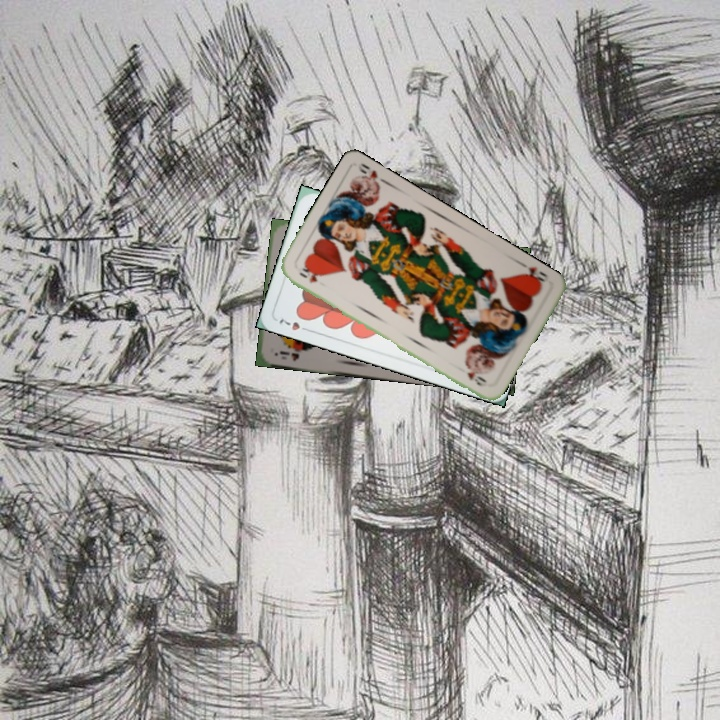H7: (275, 314, 313, 334)
HO: (516, 258, 551, 290), (295, 263, 320, 286)
SO: (275, 346, 312, 363)
